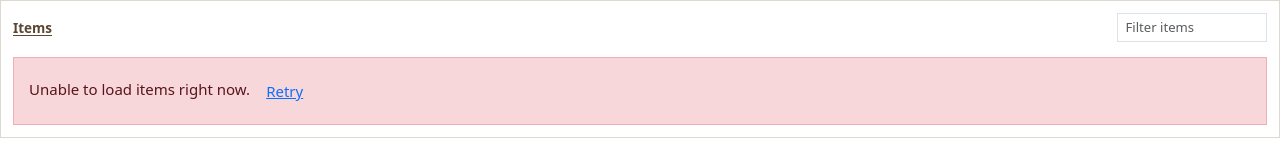
Test case: failed item reads do not claim the stash is empty and can be retried
The width and height of the screenshot is (1280, 160).
Expected: the message shows "Unable to load items right now.", [29, 79, 250, 99]
Click the button "Retry" at (285, 91), box [254, 73, 316, 109]
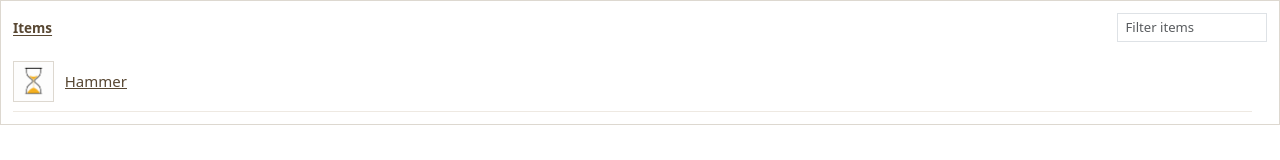
Expected: the text "Hammer" is shown, [65, 70, 127, 93]
